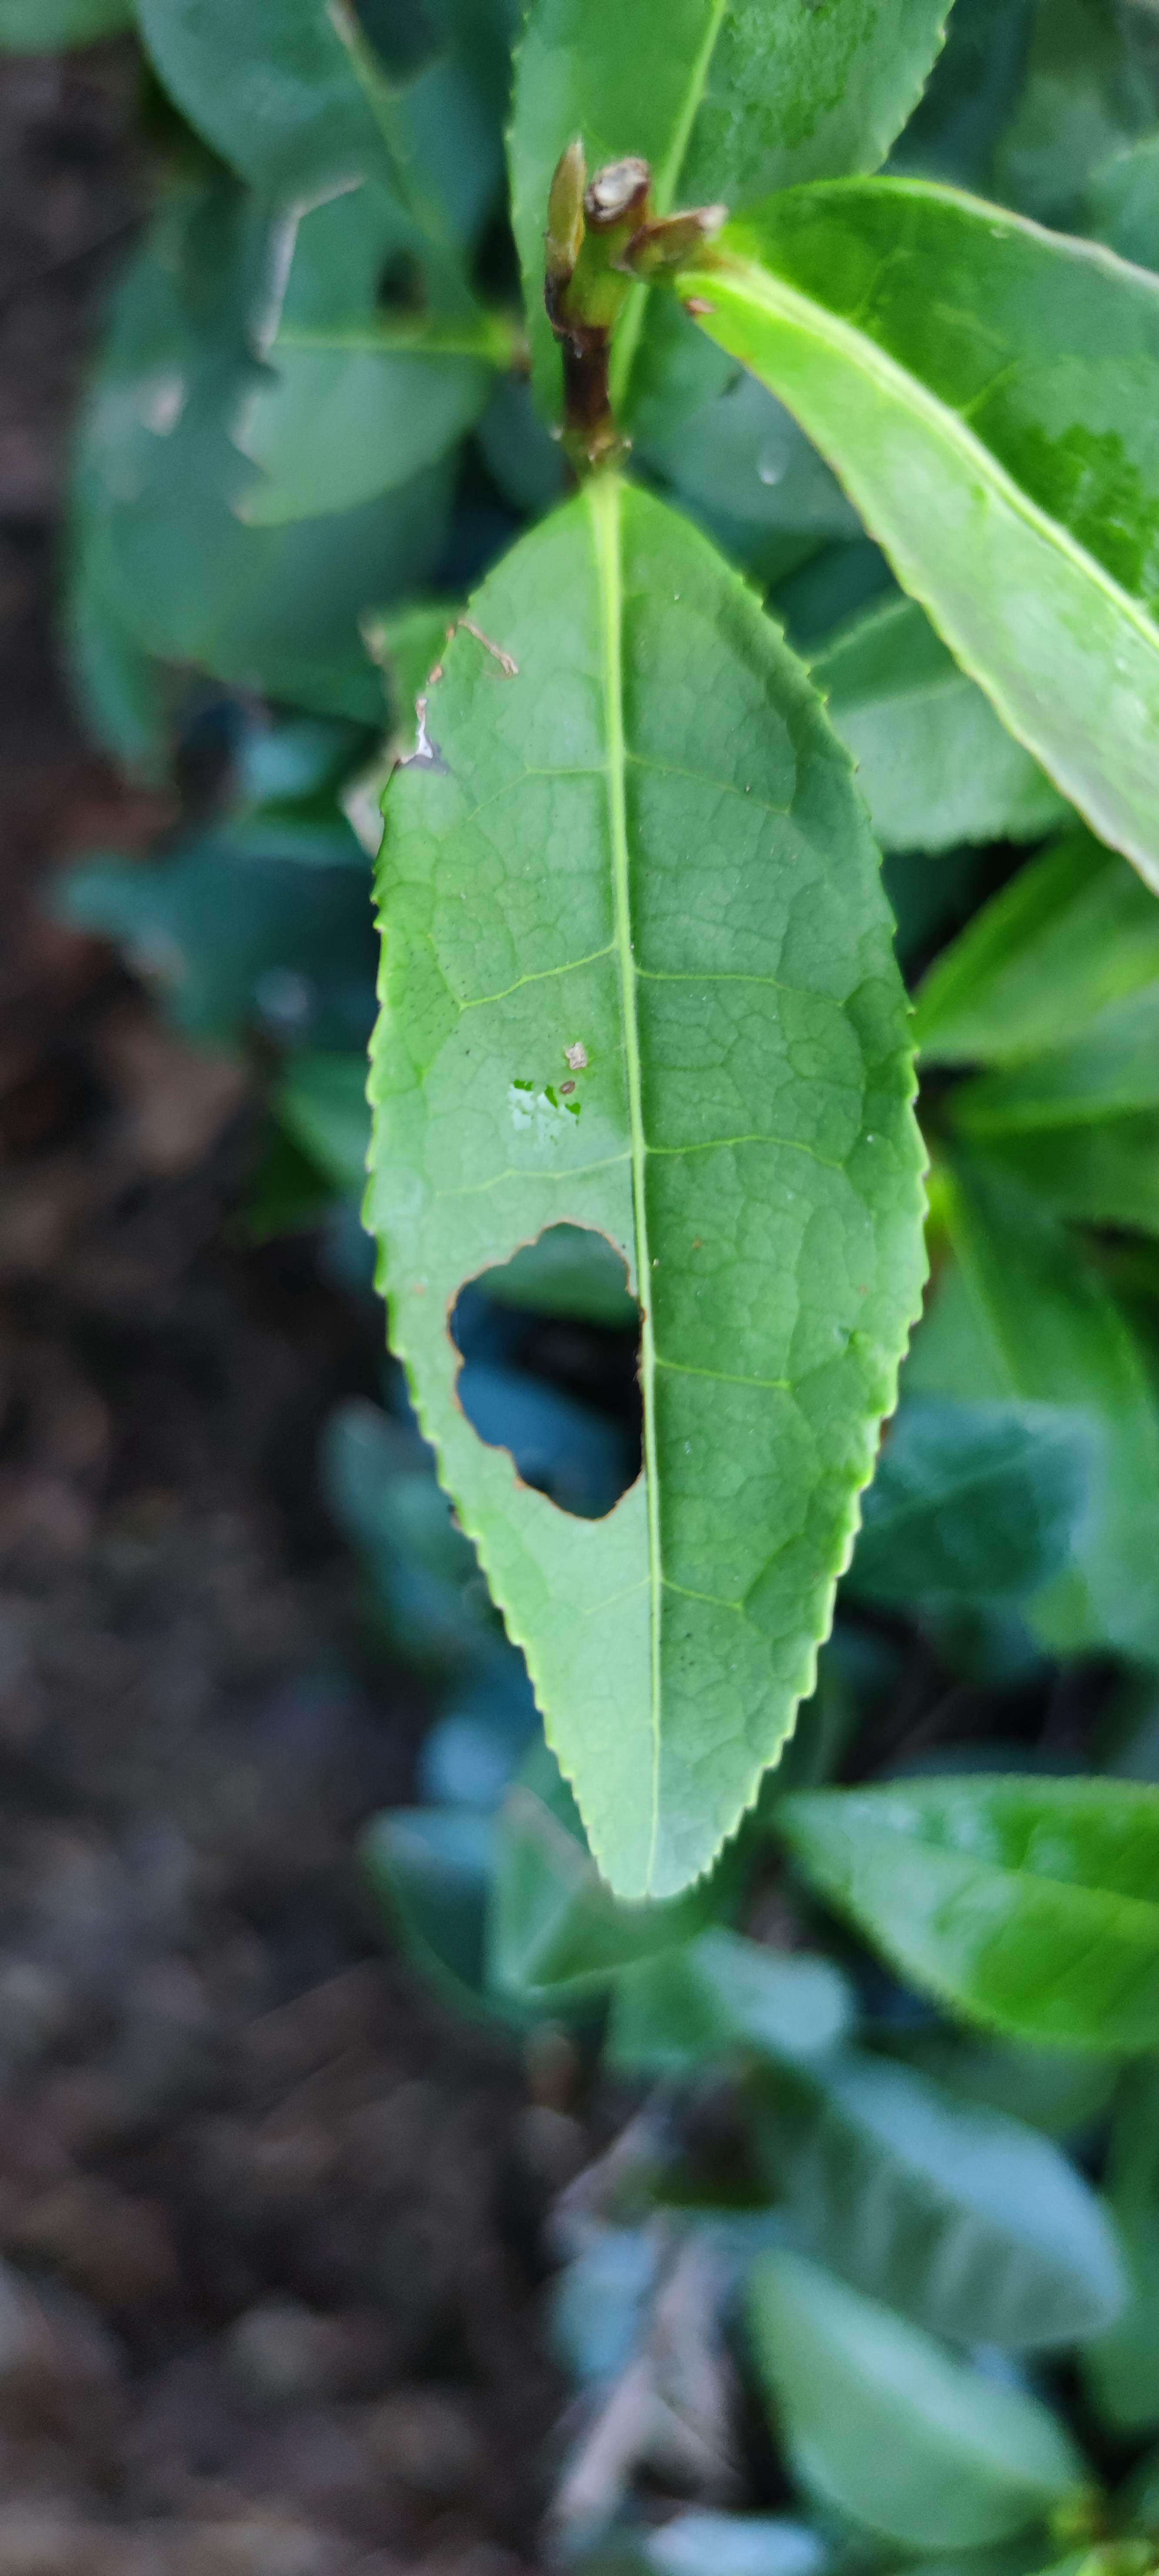chihuo_low: (364, 480, 944, 1914)
healthy: (681, 163, 1152, 877)
